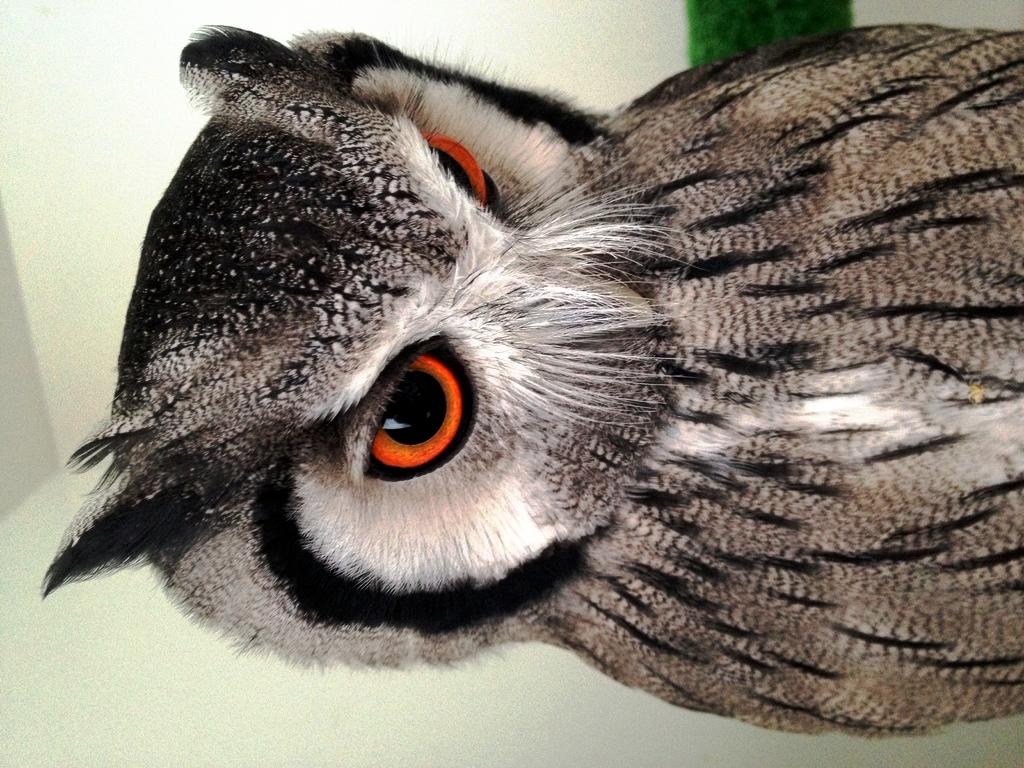Owl: (34, 20, 1024, 748)
